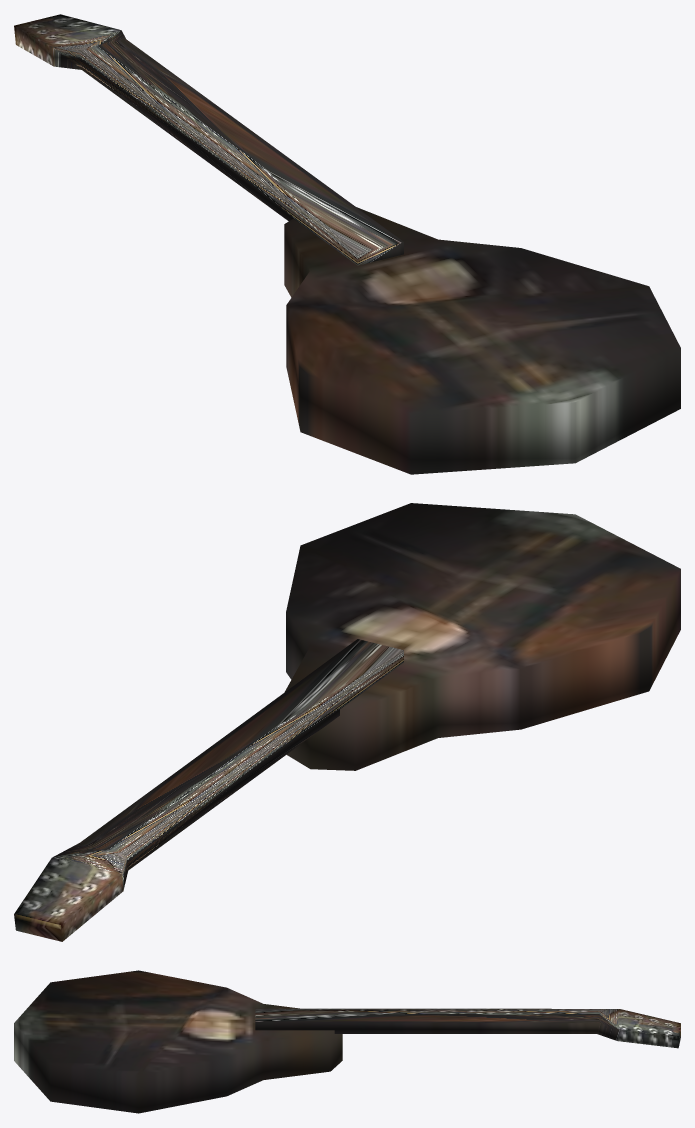
Rendered from ITMI_IE_LAUTE.glb.
3 views of the same model, one above another, from view 1: azimuth 30°, elevation 25°; view 2: azimuth 150°, elevation 25°; view 3: azimuth 270°, elevation 25° (orthographic). The views are drawn at different scales.
Visible parts, largest first — view 1: Mesh; view 2: Mesh; view 3: Mesh.
Part boxes in pixels (bbox=[...]): Mesh: bbox=[14, 14, 680, 474]; Mesh: bbox=[14, 503, 680, 941]; Mesh: bbox=[14, 970, 680, 1113].
Size of the model in its own units: 0.4138 by 0.0828 by 1.11.
Materials: 1 (1 with a texture image).
